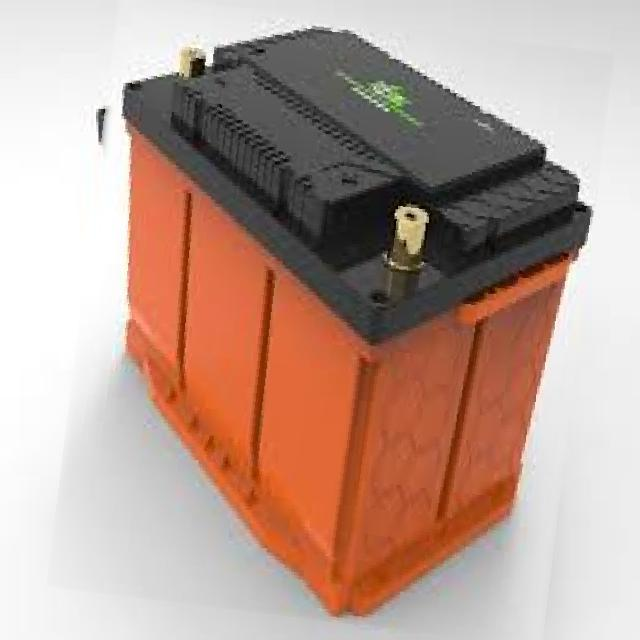Battery: (100, 12, 601, 634)
